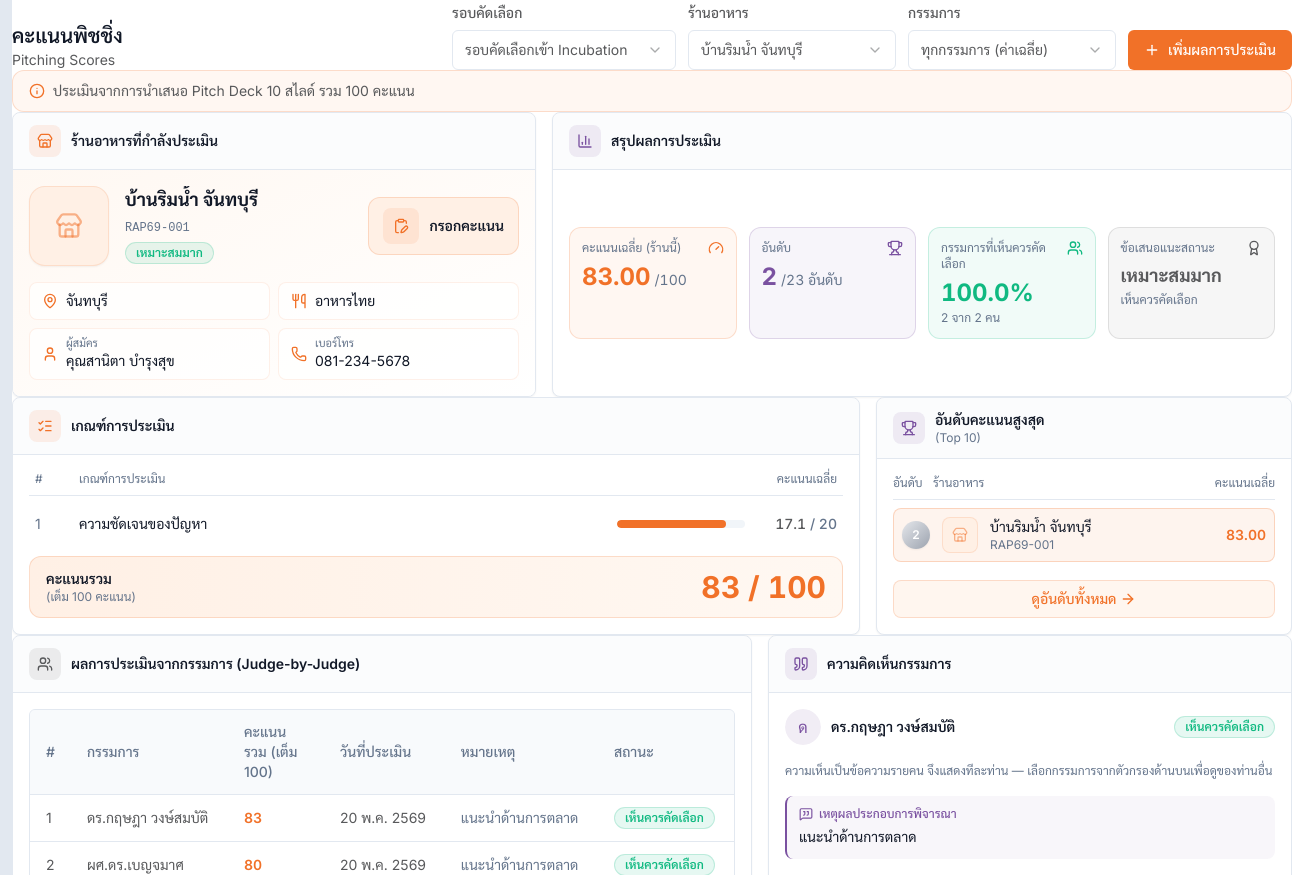
Test: PitchingDashboard › shows the cross-judge average until a judge is picked
This screenshot has width=1292, height=875.
Expected: the text "17.1" is shown, [775, 515, 806, 532]
Click the dropdown labelled "กรรมการ". click: (1012, 50)
box: [908, 30, 1116, 70]
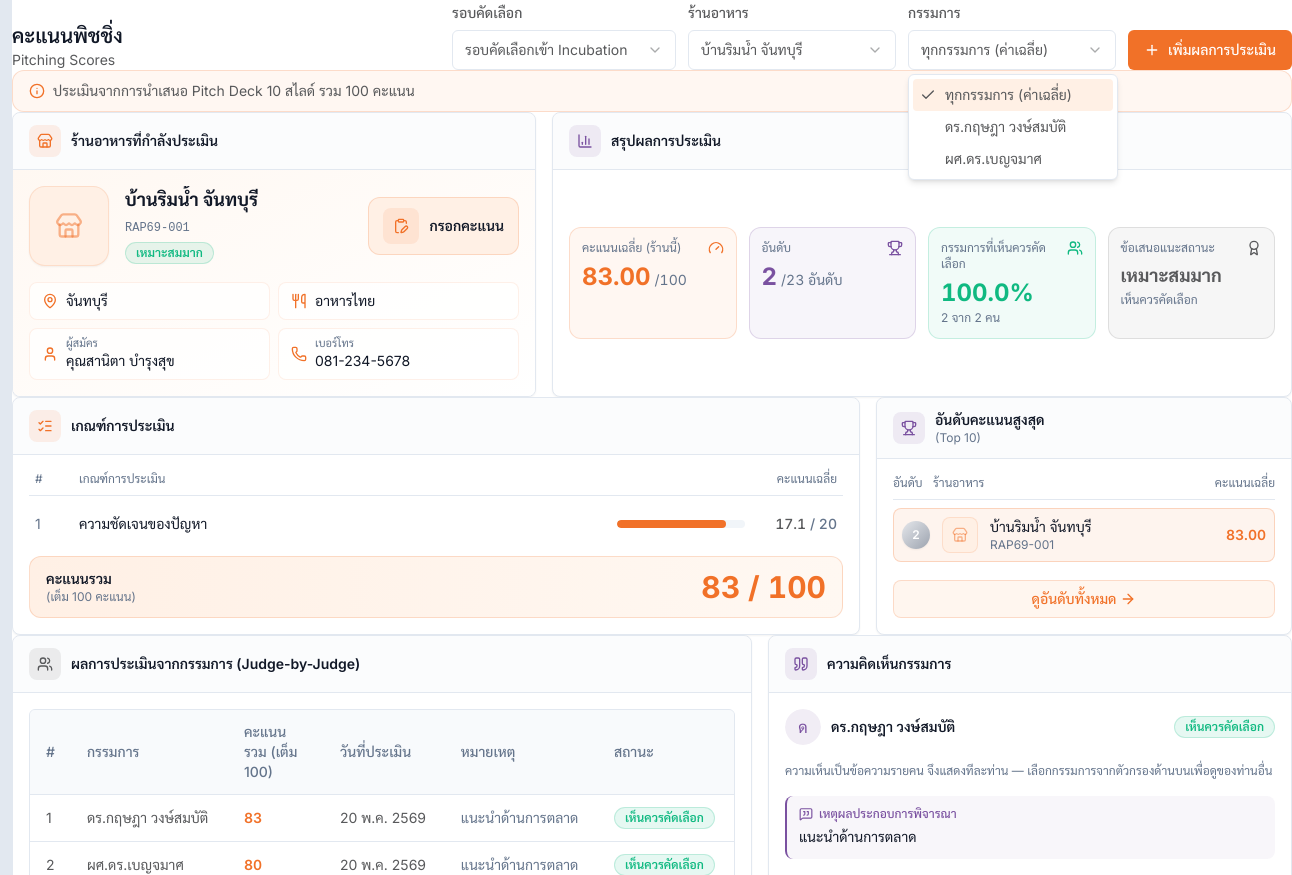
Click the option "ดร.กฤษฎา วงษ์สมบัติ". click: (1006, 126)
box: [945, 118, 1066, 135]
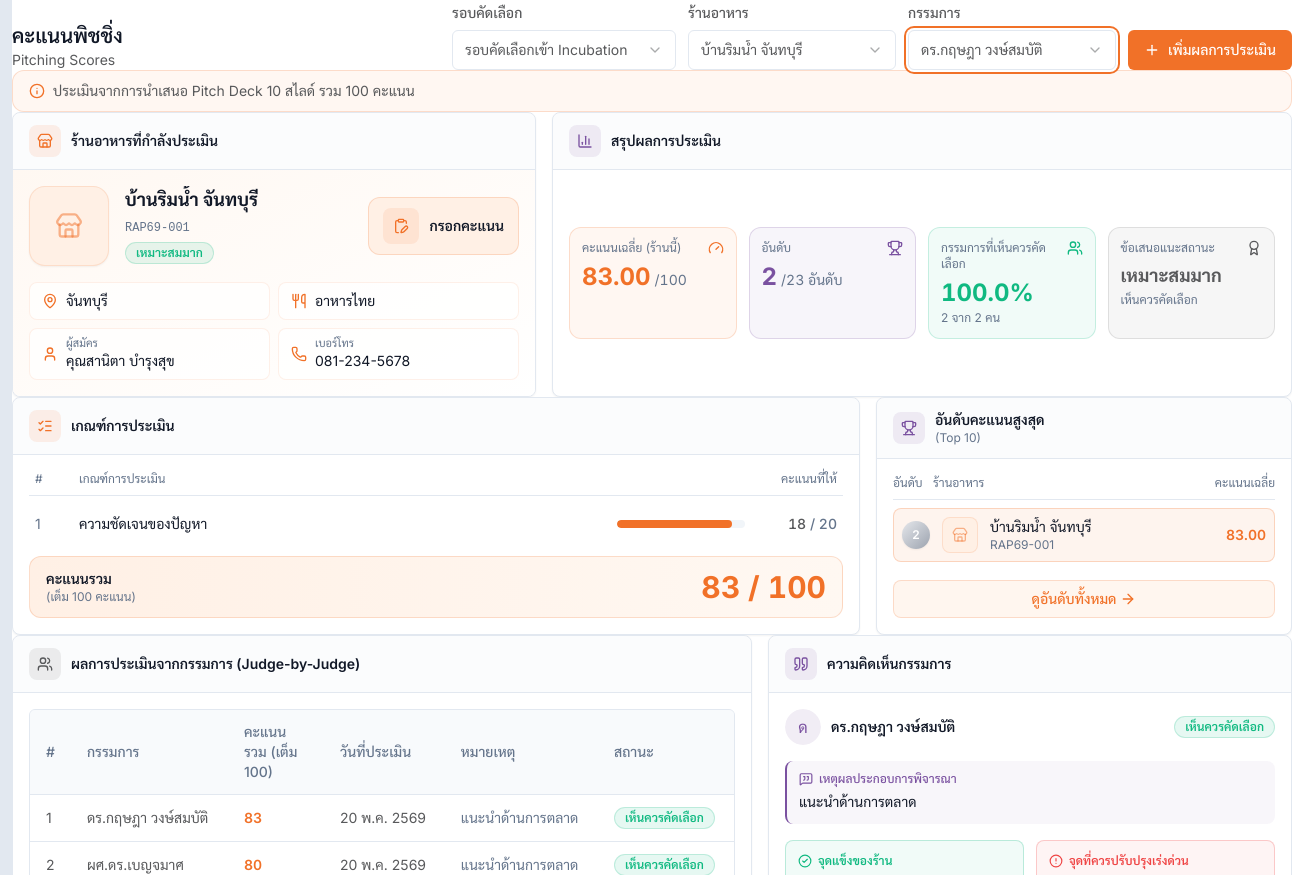
Expected: the text "18" is shown, [788, 515, 806, 532]
Expected: the text "17.1" is gone
